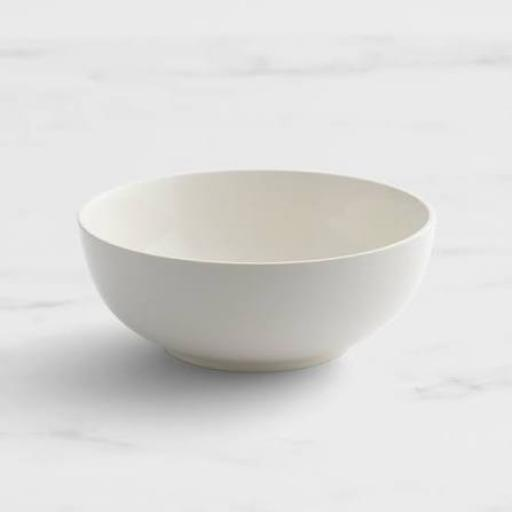Bowl: (79, 171, 434, 372)
